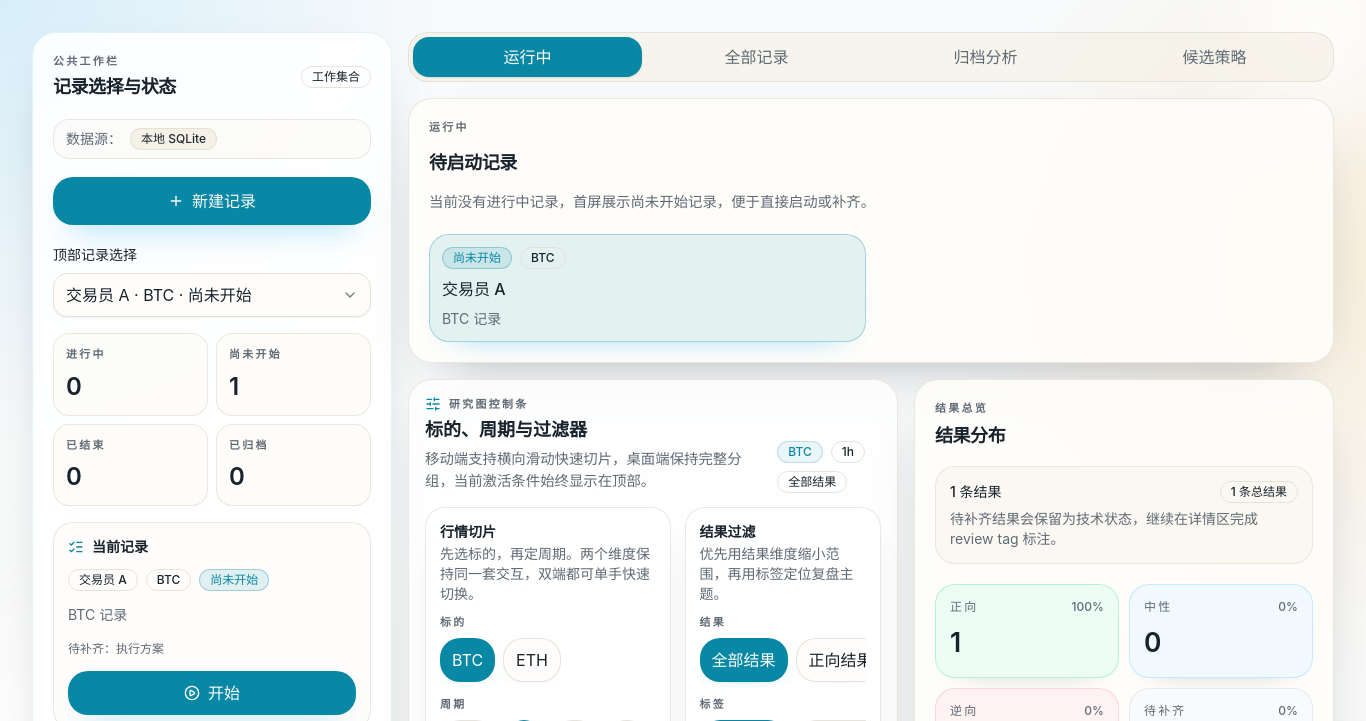
Test: opens the record composer dialog from the workspace action card
Click the button "新建记录".
click(212, 201)  # box [53, 177, 371, 225]
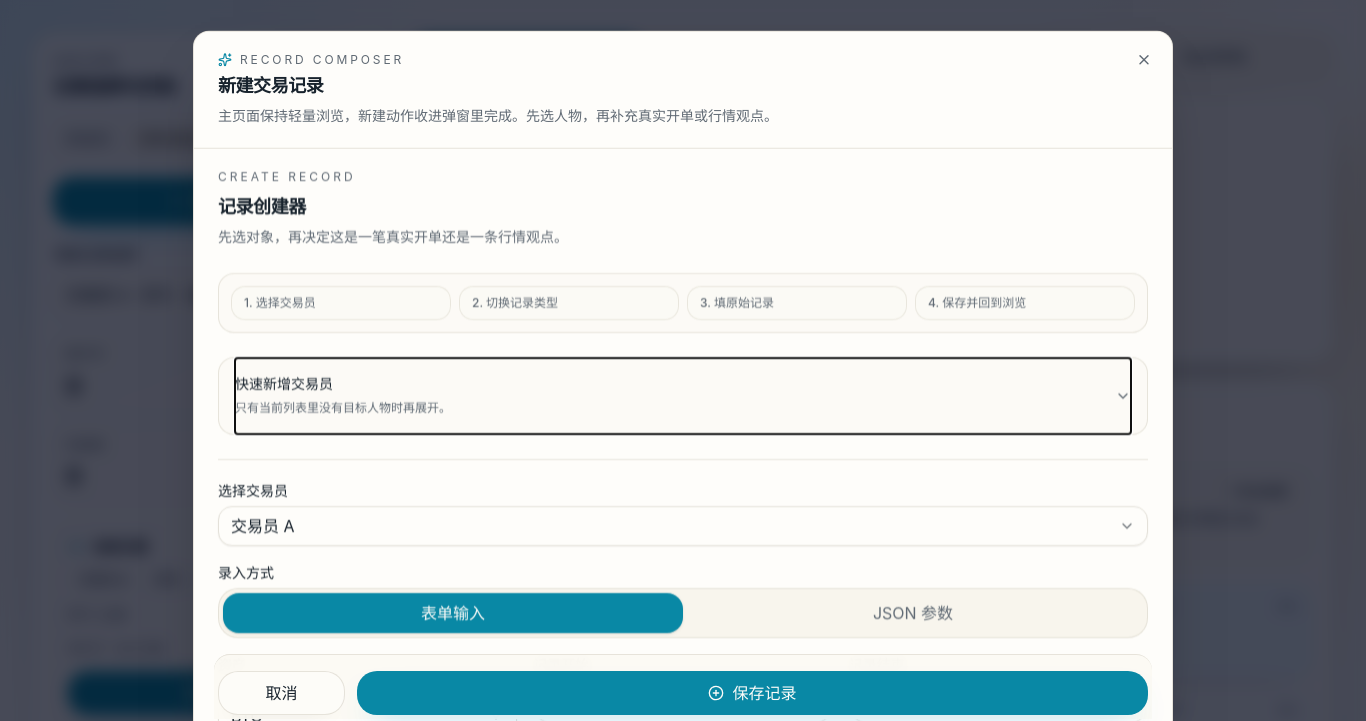
Check: the heading "新建交易记录" is shown, box [218, 75, 323, 96]
Check: the heading "记录创建器" is shown, box [218, 196, 306, 217]
